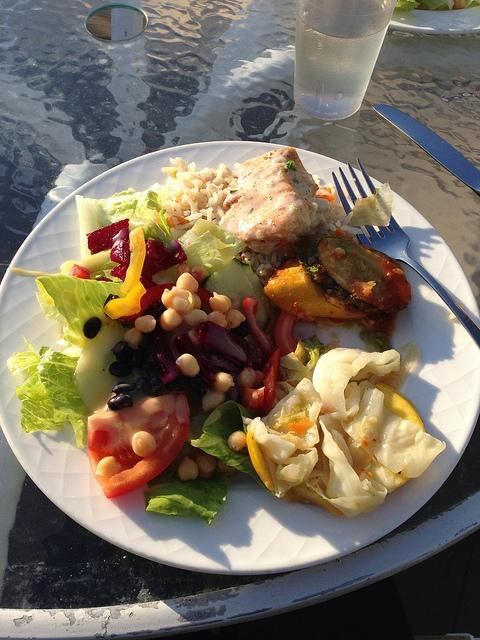bell pepper: (120, 283, 214, 321), (241, 348, 282, 414), (242, 296, 276, 362), (120, 226, 146, 295), (275, 310, 298, 356), (102, 298, 141, 320), (68, 264, 91, 280)
lettuce: (190, 400, 276, 496), (144, 442, 231, 524), (35, 274, 126, 350), (76, 183, 160, 259), (40, 347, 94, 448), (152, 230, 236, 285), (200, 258, 270, 322), (136, 190, 162, 213)
tomato: (87, 391, 190, 499), (240, 348, 282, 417), (242, 296, 276, 358), (275, 310, 298, 357)
